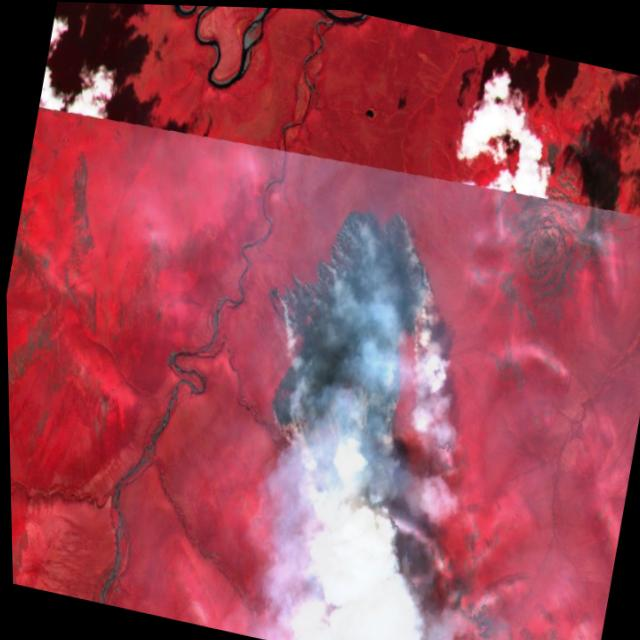fire: (229, 169, 456, 476)
